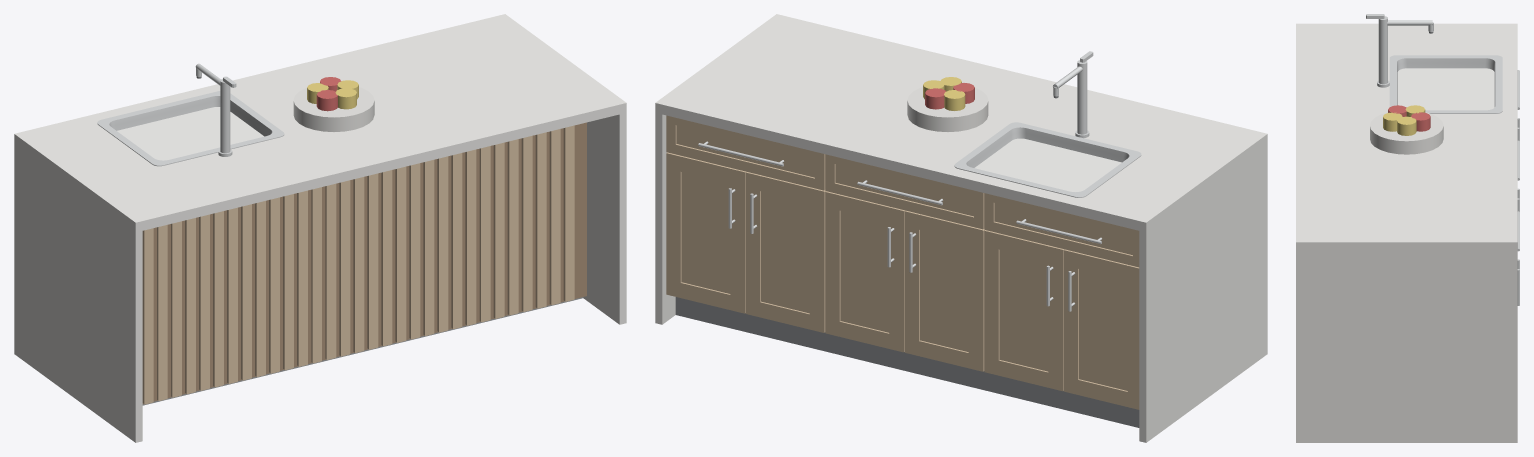
3 renders of one model, left to right at view 1: azimuth 30°, elevation 25°; view 2: azimuth 150°, elevation 25°; view 3: azimuth 270°, elevation 25°, orthographic. The views are drawn at different scales.
Parts seen in each view (by area): view 1: Đảo bếp Dài=2100; Rộng=900; view 2: Đảo bếp Dài=2100; Rộng=900; view 3: Đảo bếp Dài=2100; Rộng=900.
Part boxes in pixels (x1,y1,x2,y2): Đảo bếp Dài=2100; Rộng=900: (14, 14, 626, 442); Đảo bếp Dài=2100; Rộng=900: (655, 14, 1267, 442); Đảo bếp Dài=2100; Rộng=900: (1296, 14, 1519, 442).
Bounding box in the file's own units: 2.1 × 1.21 × 0.91.
